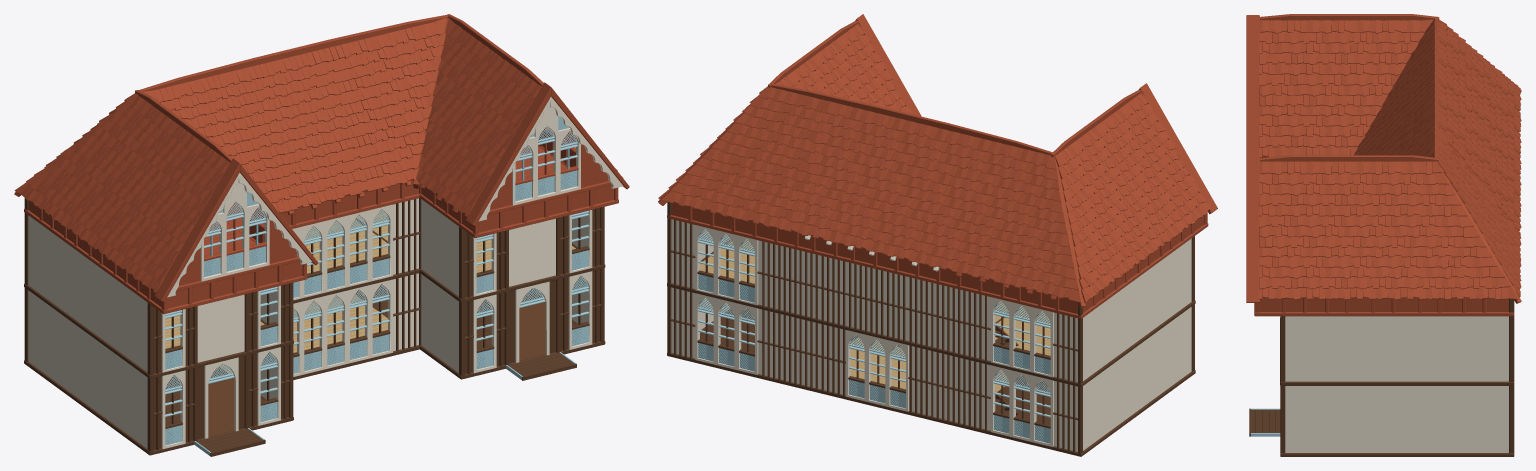
File: house.glb
3 renders of one model, left to right at view 1: azimuth 30°, elevation 25°; view 2: azimuth 150°, elevation 25°; view 3: azimuth 270°, elevation 25°, orthographic. The views are drawn at different scales.
Visible parts, largest first — view 1: ROOF_01, WALL_01, TRIM_01, WINDOW_01, FLOOR_01, DOOR_entrance_east, DOOR_entrance; view 2: ROOF_01, WALL_01, TRIM_01, WINDOW_01, FLOOR_01; view 3: ROOF_01, WALL_01, TRIM_01.
Part boxes in pixels (x1,y1,x2,y2): ROOF_01: (14, 14, 629, 313); WALL_01: (28, 97, 623, 448); TRIM_01: (24, 198, 605, 456); WINDOW_01: (165, 116, 589, 455); FLOOR_01: (165, 210, 575, 375); DOOR_entrance_east: (519, 302, 545, 360); DOOR_entrance: (208, 378, 234, 436); ROOF_01: (658, 14, 1217, 318); WALL_01: (671, 219, 1191, 451); TRIM_01: (667, 202, 1195, 456); WINDOW_01: (698, 229, 1050, 443); FLOOR_01: (700, 239, 1050, 392); ROOF_01: (1246, 14, 1521, 316); WALL_01: (1285, 164, 1520, 452); TRIM_01: (1249, 299, 1514, 456).
Bounding box in the file's own units: 19.71 × 11.6 × 10.75.
